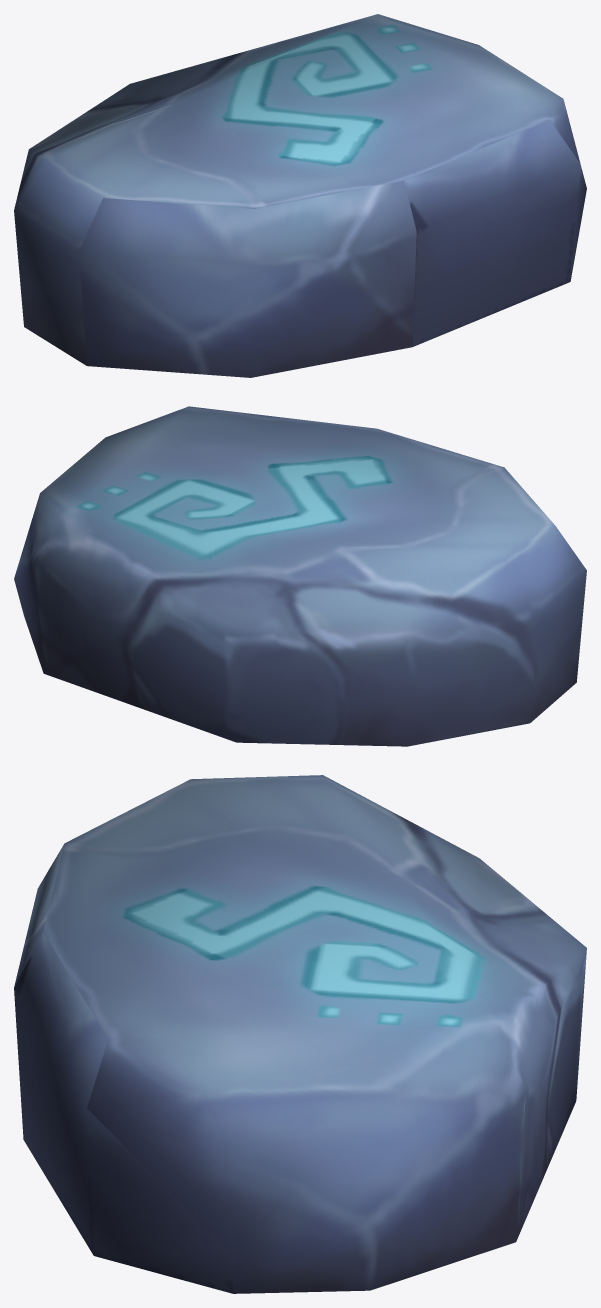
File: Snake_stone_05.fbx
The picture shows the model from 3 angles, top to bottom: view 1: azimuth 30°, elevation 25°; view 2: azimuth 150°, elevation 25°; view 3: azimuth 270°, elevation 25°; orthographic projection. The views are drawn at different scales.
Visible parts, largest first — view 1: Snake_stone_05; view 2: Snake_stone_05; view 3: Snake_stone_05.
Part boxes in pixels (x1,y1,x2,y2): Snake_stone_05: [14, 14, 586, 377]; Snake_stone_05: [14, 406, 586, 746]; Snake_stone_05: [14, 775, 586, 1293].
Size of the model in its own units: 259 by 74.6 by 187.
